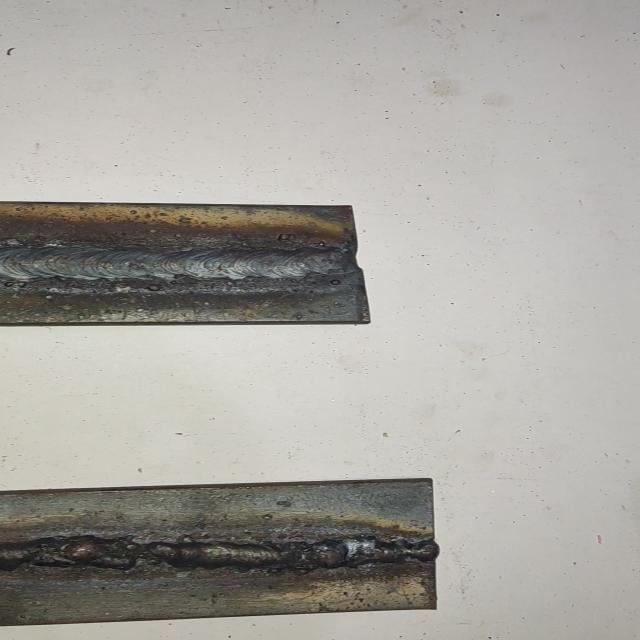Defect: (0, 529, 198, 580), (259, 525, 392, 581)
Welding Line: (0, 532, 433, 574), (0, 243, 363, 281)
Workpiece: (0, 470, 448, 632), (0, 198, 386, 331)
